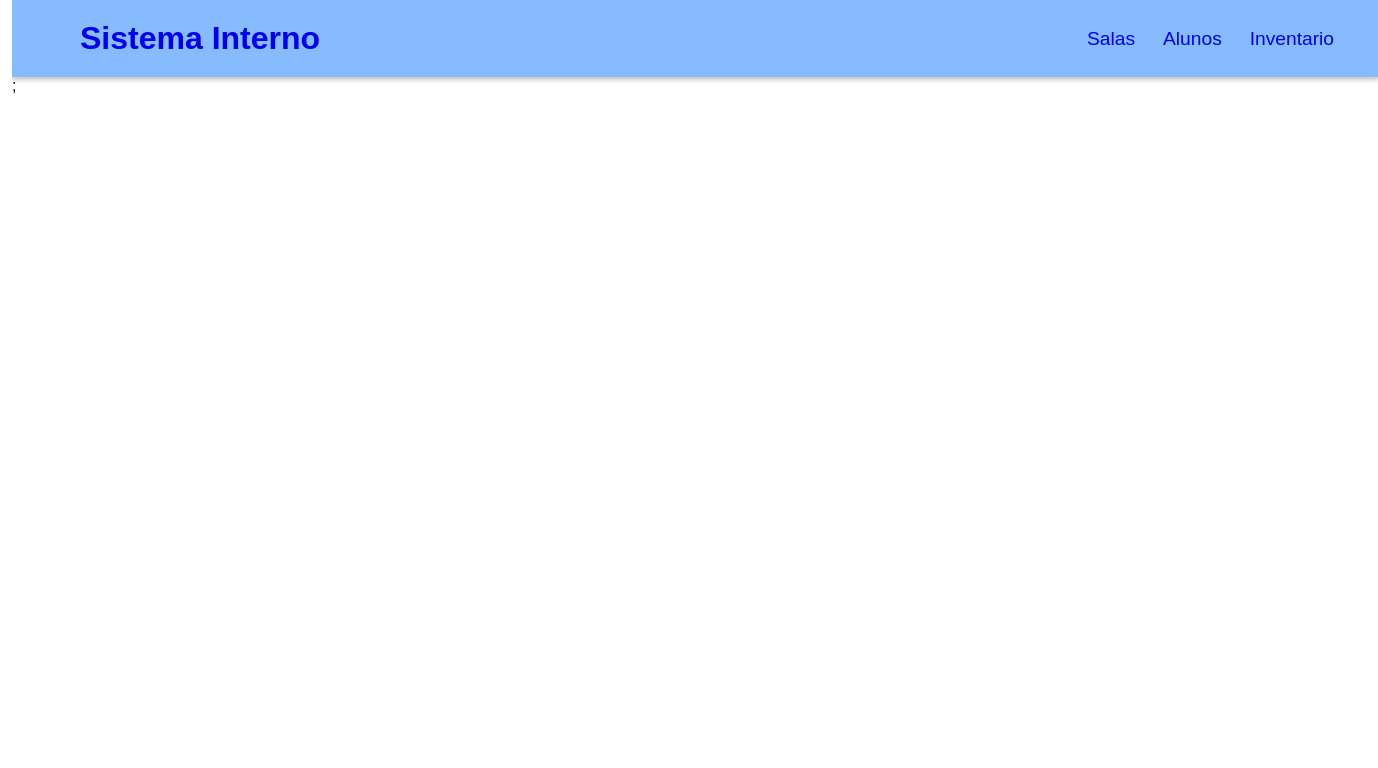
it: e2e specs › when the user clicks in the students link › changes the page that the user is seeing to the first students page
Click the list item with test id "students": x=1193, y=39 [1159,24,1226,54]
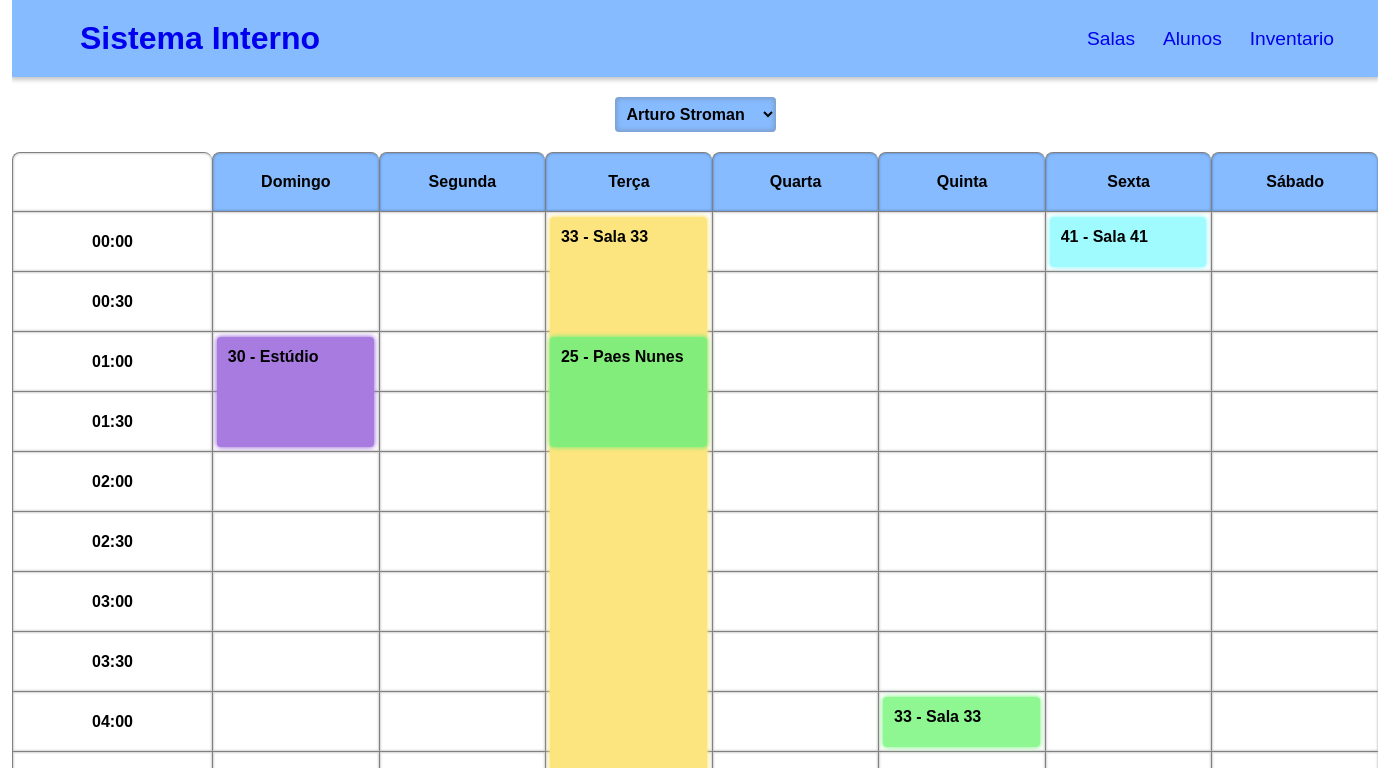
Check: the dropdown with test id "select-room" shows "Arturo Stroman", box [615,97,776,132]
